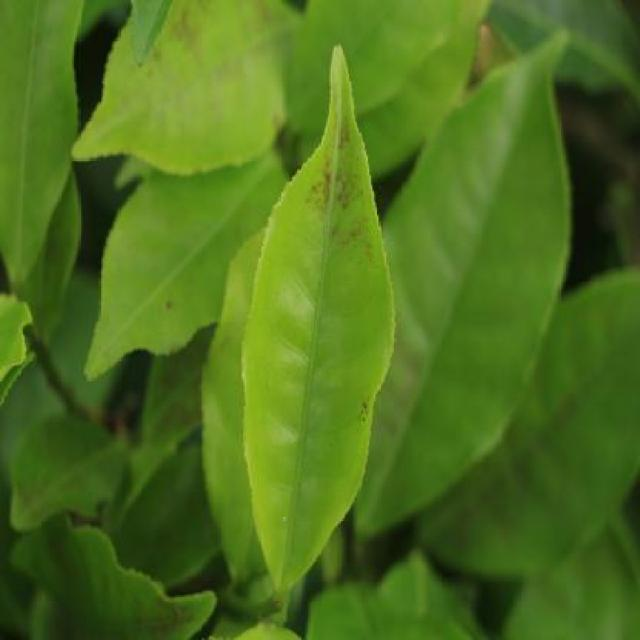Red Spider infested tea leaf: (243, 55, 403, 572)
